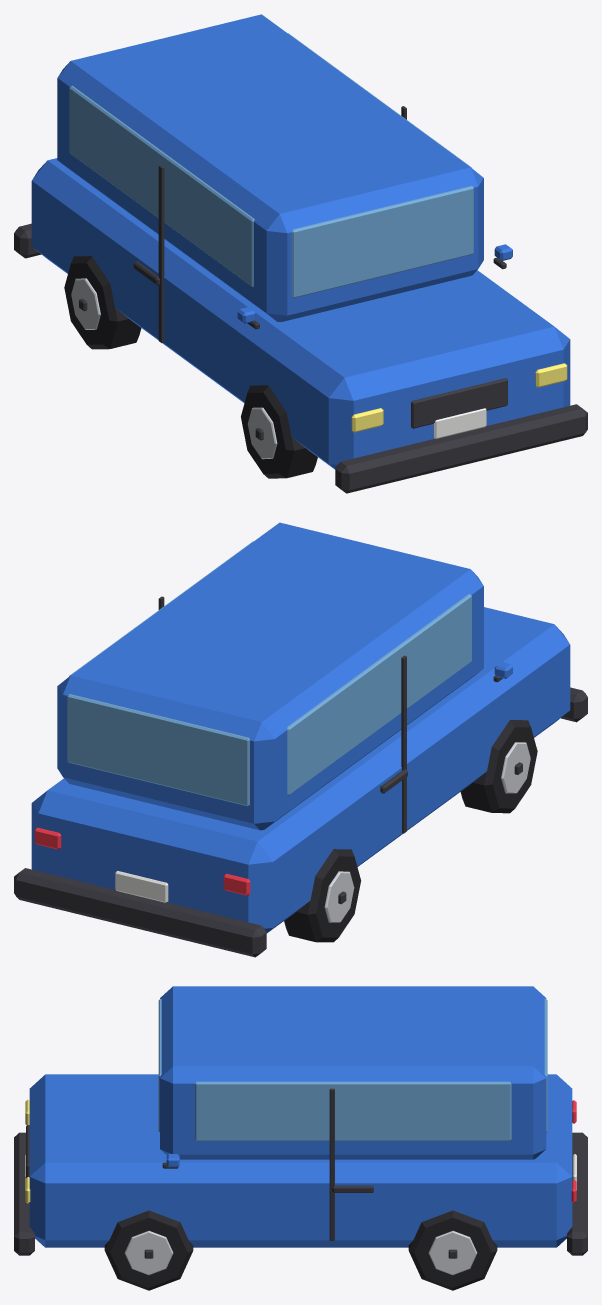
File: BlueMinivan.fbx
3 renders of one model, top to bottom at view 1: azimuth 30°, elevation 25°; view 2: azimuth 150°, elevation 25°; view 3: azimuth 270°, elevation 25°, orthographic. The views are drawn at different scales.
Visible parts, largest first — view 1: BlueMinivan, BlueMinivan_WheelBR, BlueMinivan_WheelFR; view 2: BlueMinivan, BlueMinivan_WheelBR, BlueMinivan_WheelFR; view 3: BlueMinivan, BlueMinivan_WheelBL, BlueMinivan_WheelFL.
Part boxes in pixels (box(x1,y1,x2,y2)): BlueMinivan: box(14, 14, 587, 493); BlueMinivan_WheelBR: box(64, 256, 141, 349); BlueMinivan_WheelFR: box(241, 385, 317, 478); BlueMinivan: box(14, 522, 587, 957); BlueMinivan_WheelBR: box(284, 849, 361, 942); BlueMinivan_WheelFR: box(460, 720, 537, 813); BlueMinivan: box(14, 986, 587, 1255); BlueMinivan_WheelBL: box(408, 1210, 497, 1290); BlueMinivan_WheelFL: box(104, 1210, 193, 1290).
Size of the model in its own units: 5.15 by 4.52 by 11.
1 material, 1 textured.
